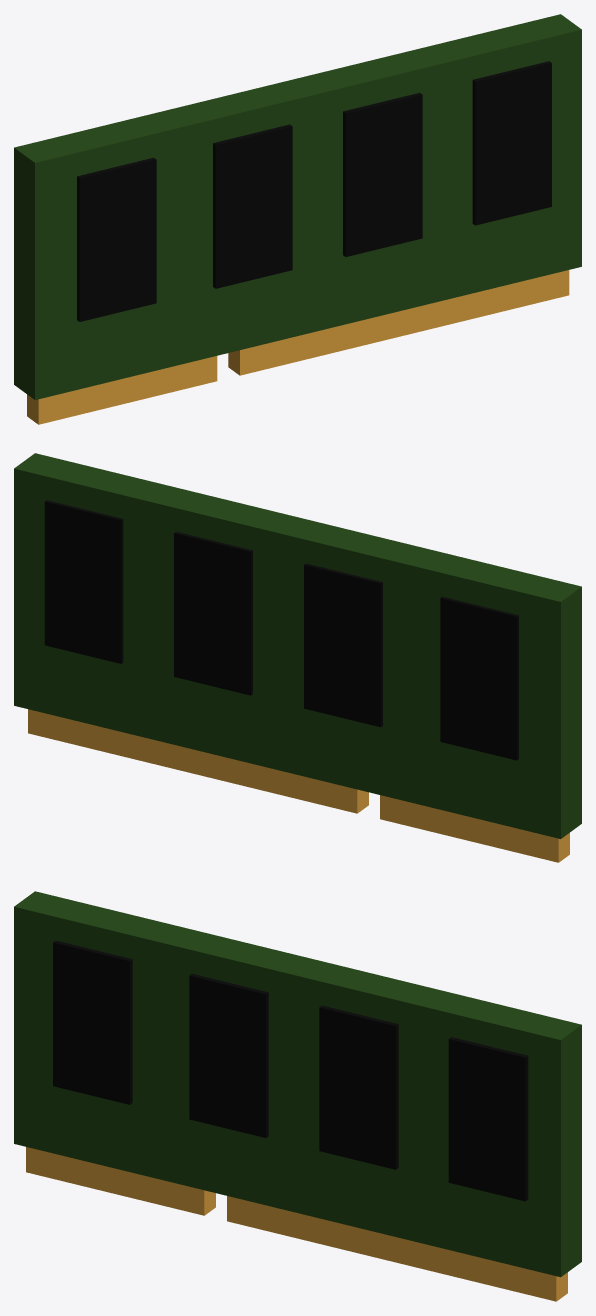
The model's file is RAM.fbx.
3 views of the same model, one above another, from view 1: azimuth 30°, elevation 25°; view 2: azimuth 150°, elevation 25°; view 3: azimuth 330°, elevation 25° (orthographic).
Visible parts, largest first — view 1: Cube; view 2: Cube; view 3: Cube.
Part boxes in pixels (x1=…): Cube: x1=14, y1=14, x2=581, y2=424; Cube: x1=14, y1=453, x2=581, y2=862; Cube: x1=14, y1=891, x2=581, y2=1301.
Bounding box in the file's own units: 59.78 × 27.86 × 4.9.
